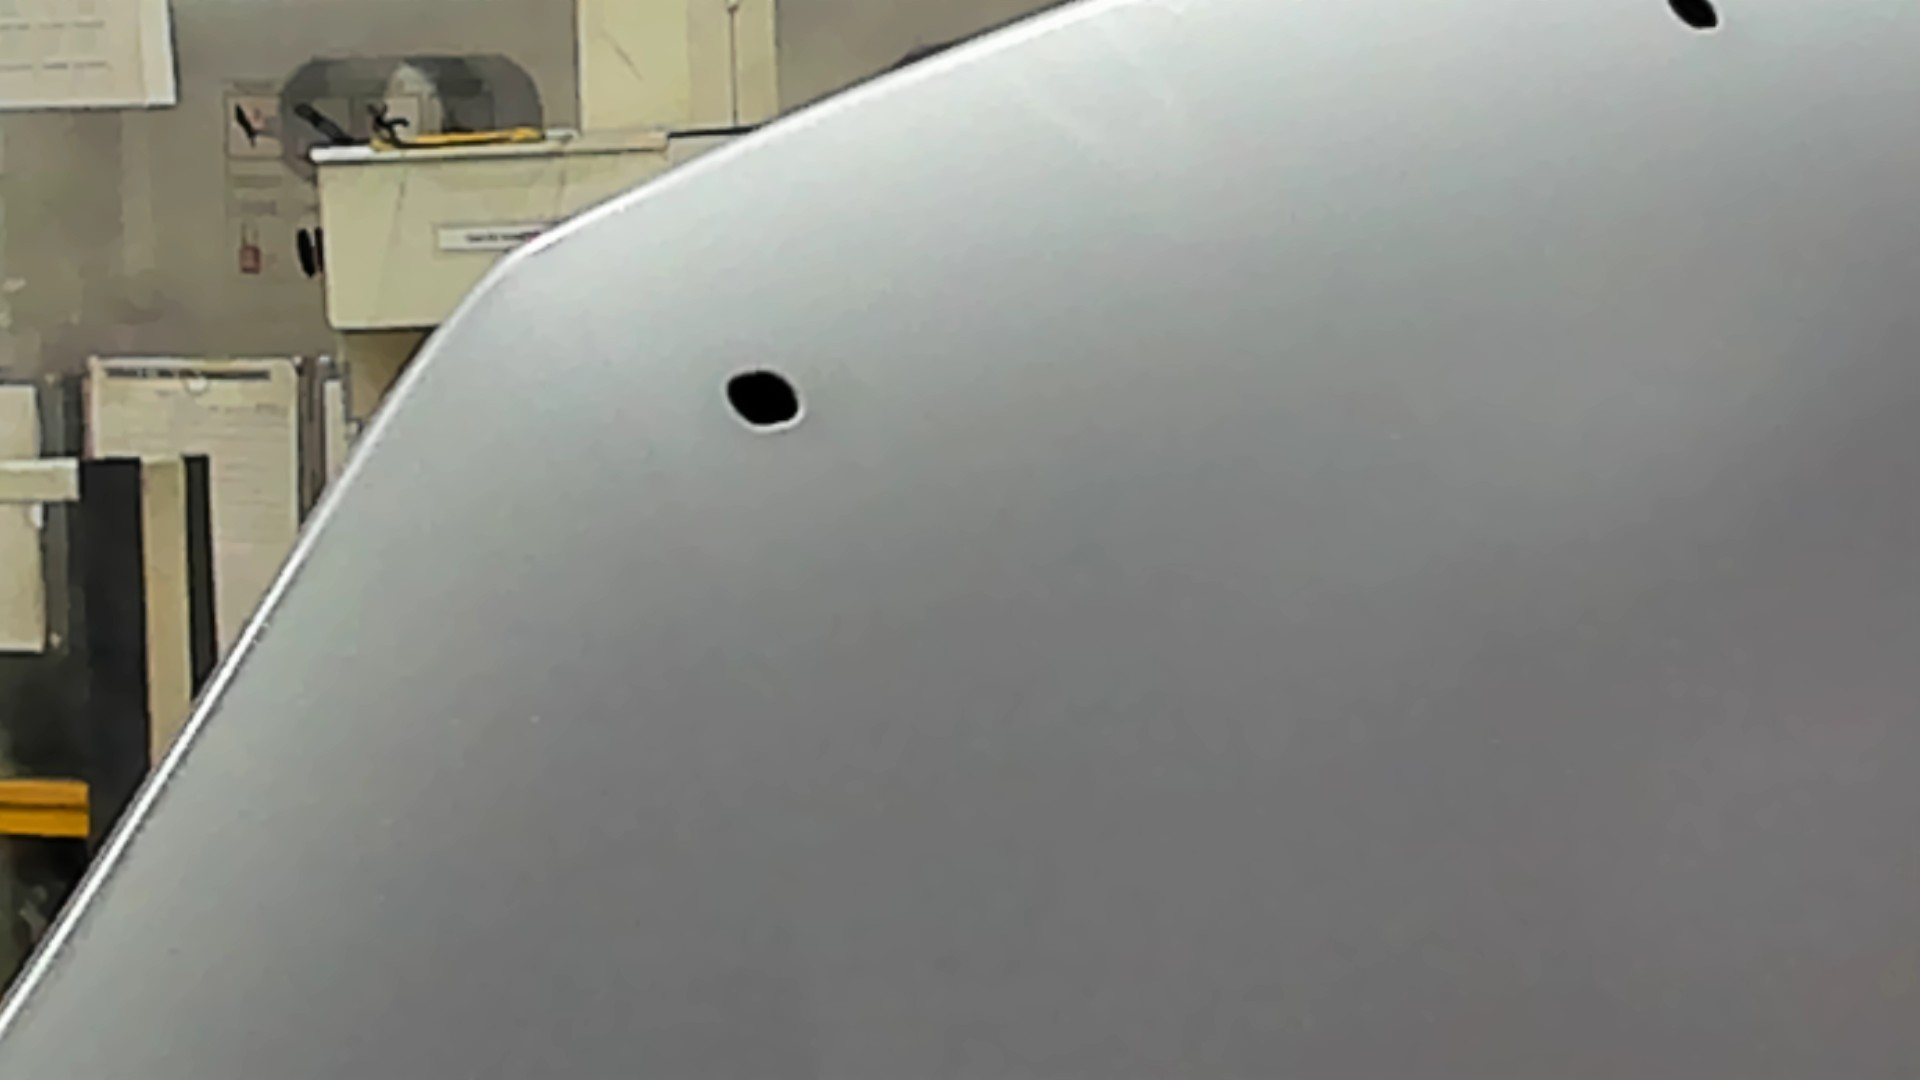Agujero: (723, 367, 802, 429), (1662, 1, 1724, 32)
